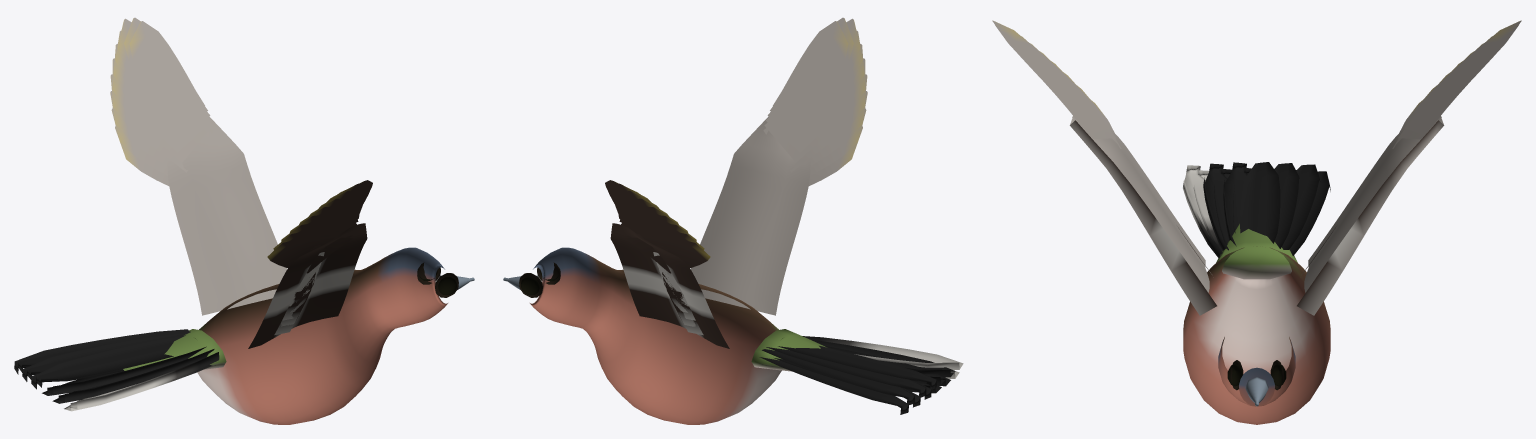
Rendered from SM_Bird_chaffinch_flap0.glb.
3 renders of one model, left to right at view 1: azimuth 30°, elevation 25°; view 2: azimuth 150°, elevation 25°; view 3: azimuth 270°, elevation 25°, orthographic. The views are drawn at different scales.
Visible parts, largest first — view 1: SM_Bird_chaffinch_flap0; view 2: SM_Bird_chaffinch_flap0; view 3: SM_Bird_chaffinch_flap0.
Boxes of the visible parts, x1=… form: SM_Bird_chaffinch_flap0: x1=14, y1=17, x2=474, y2=424; SM_Bird_chaffinch_flap0: x1=503, y1=17, x2=963, y2=424; SM_Bird_chaffinch_flap0: x1=992, y1=20, x2=1521, y2=424.
Size of the model in its own units: 0.1714 by 0.1257 by 0.1623.
